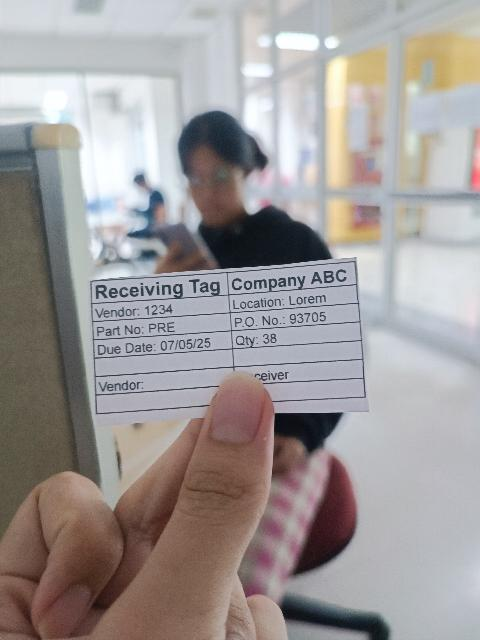PO no: (230, 304, 359, 331)
part no: (93, 312, 232, 340)
qty: (231, 322, 361, 349)
tags: (90, 259, 367, 425)
